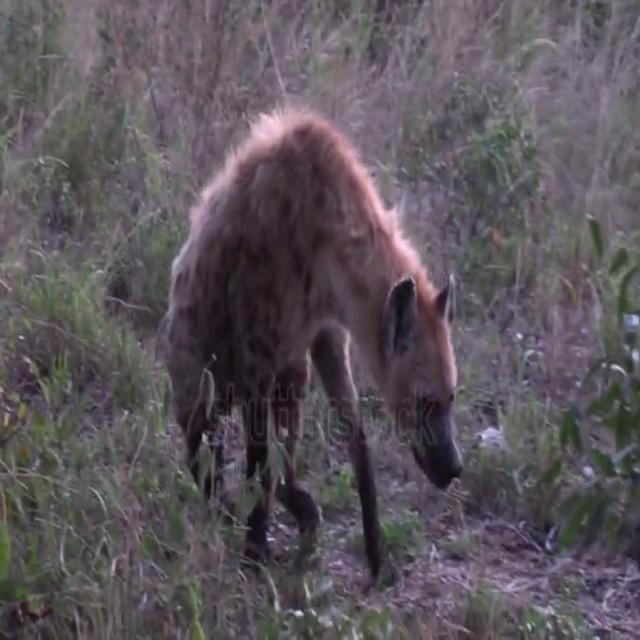normal_animals: (156, 101, 467, 586)
